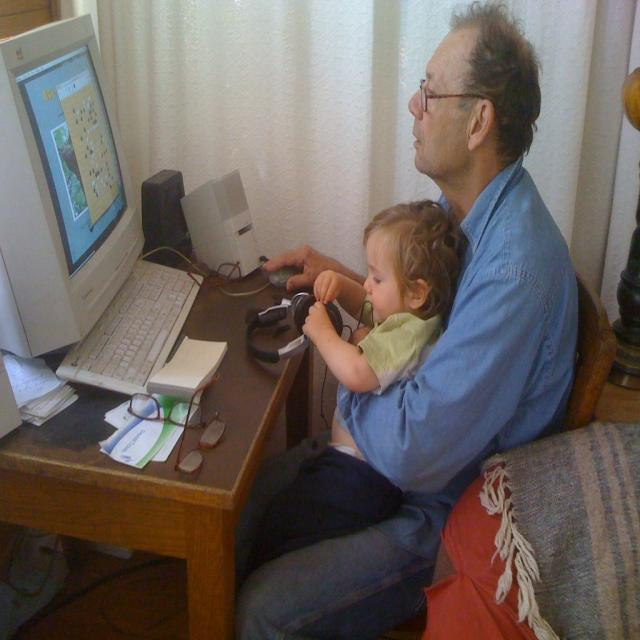desk: (4, 254, 312, 636)
keyboard: (57, 258, 201, 397)
mouse: (267, 262, 304, 286)
person: (241, 16, 583, 632), (233, 196, 463, 636)
tv: (0, 12, 144, 362)
